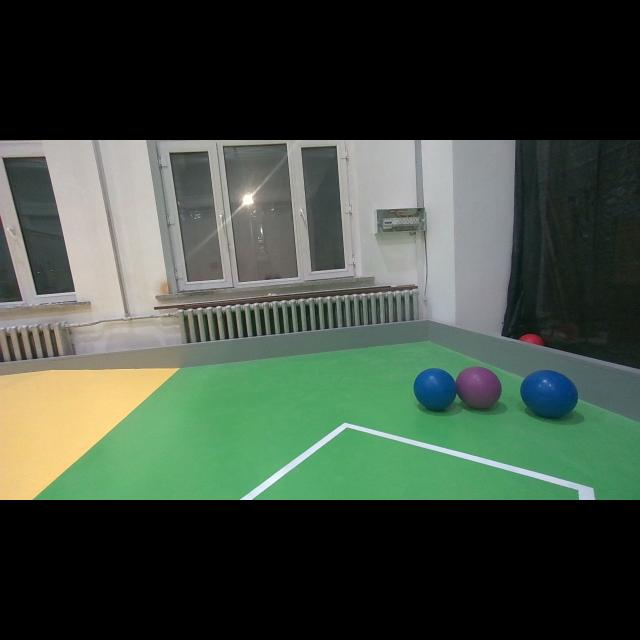B: (520, 370, 578, 418), (414, 368, 456, 412)
P: (454, 366, 502, 409)
